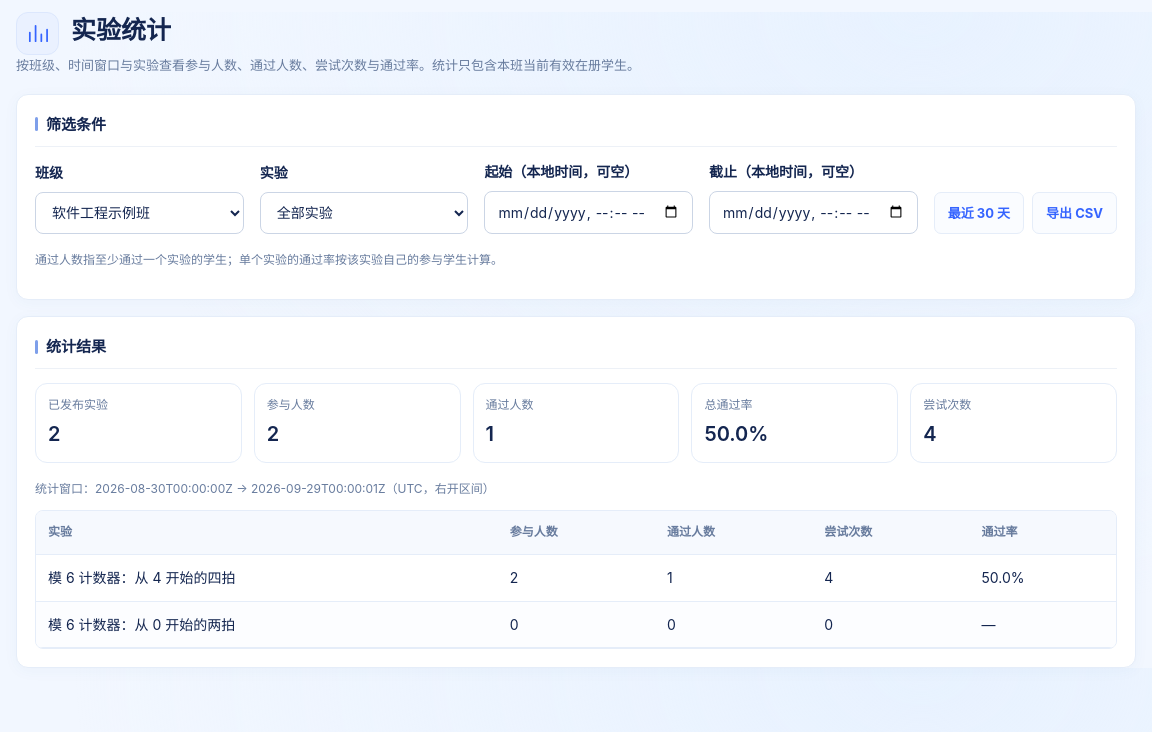
it: TeacherExperimentStatsView › 较早请求晚返回时不覆盖当前班级的统计
Select "网络工程示例班" in the dropdown with id "es_class": [139, 213] box [35, 192, 244, 234]
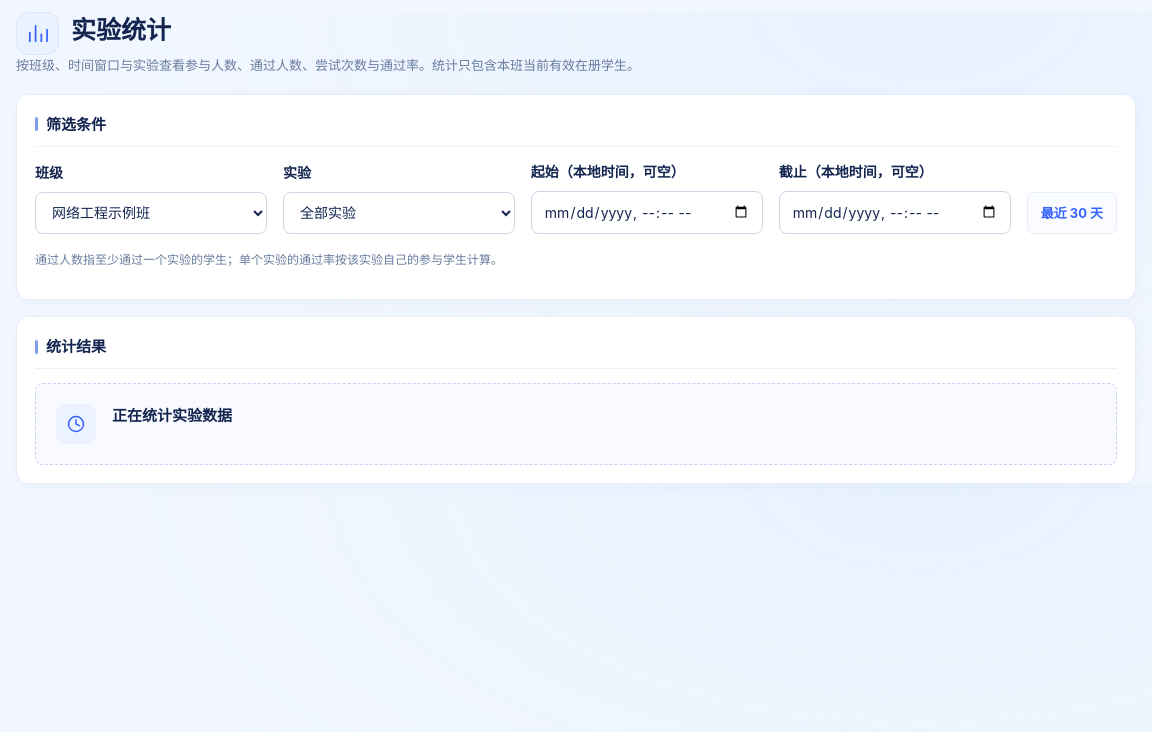
Select "软件工程示例班" in the dropdown with id "es_class": [151, 213] box [35, 192, 267, 234]
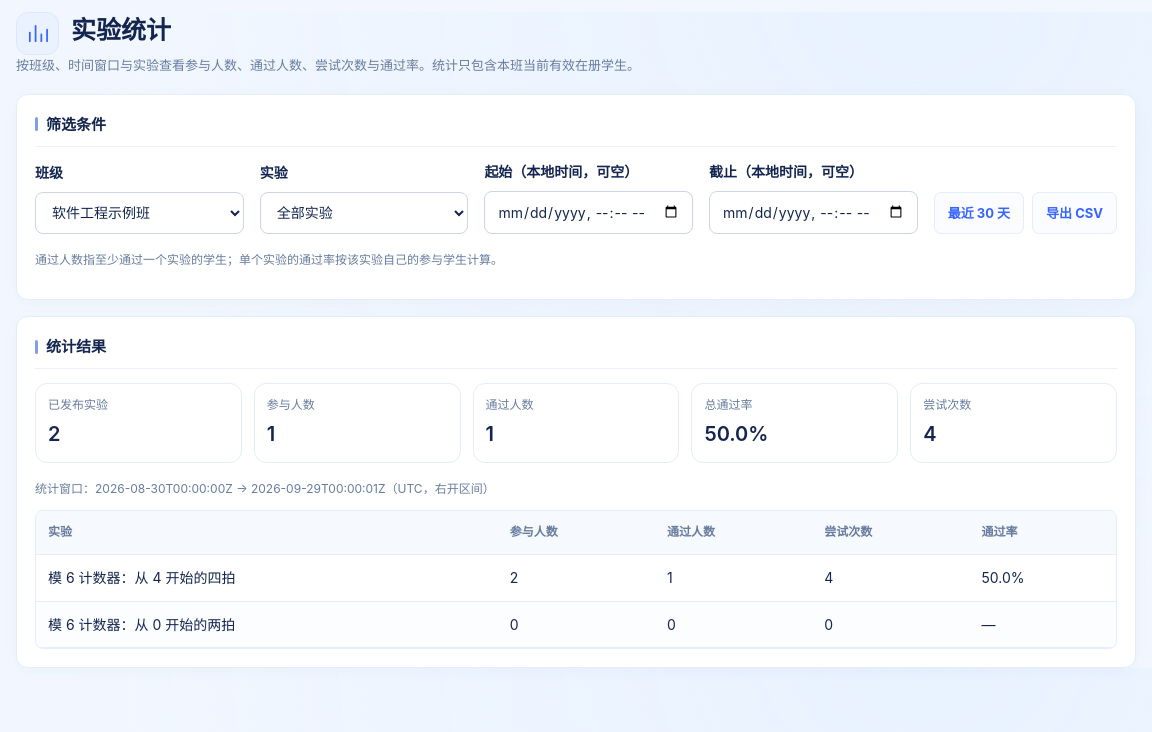
Now the 1st text with class "tile__value" reads "1", box [267, 422, 275, 446]
